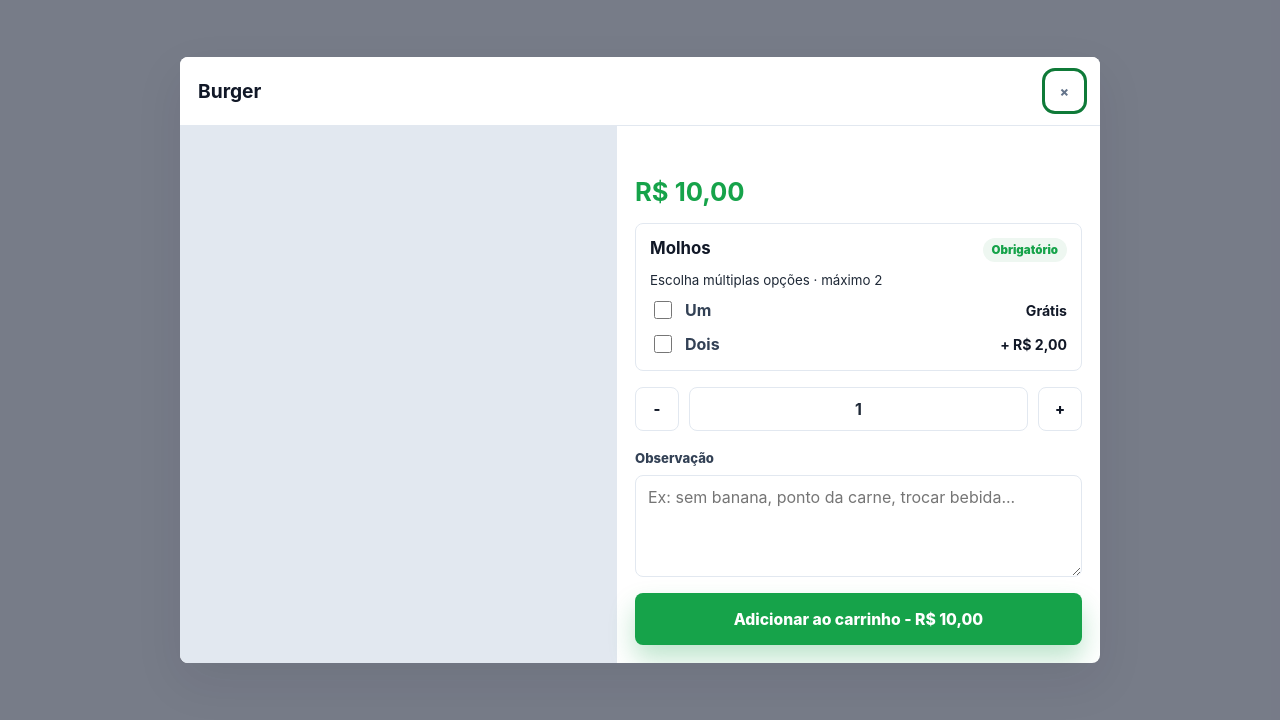
Test: componentes criticos › ProductModal valida obrigatorio e minimo antes de adicionar
The image size is (1280, 720).
Click the checkbox labelled "Um Grátis" at (663, 310), box x1=654 y1=301 x2=672 y2=319
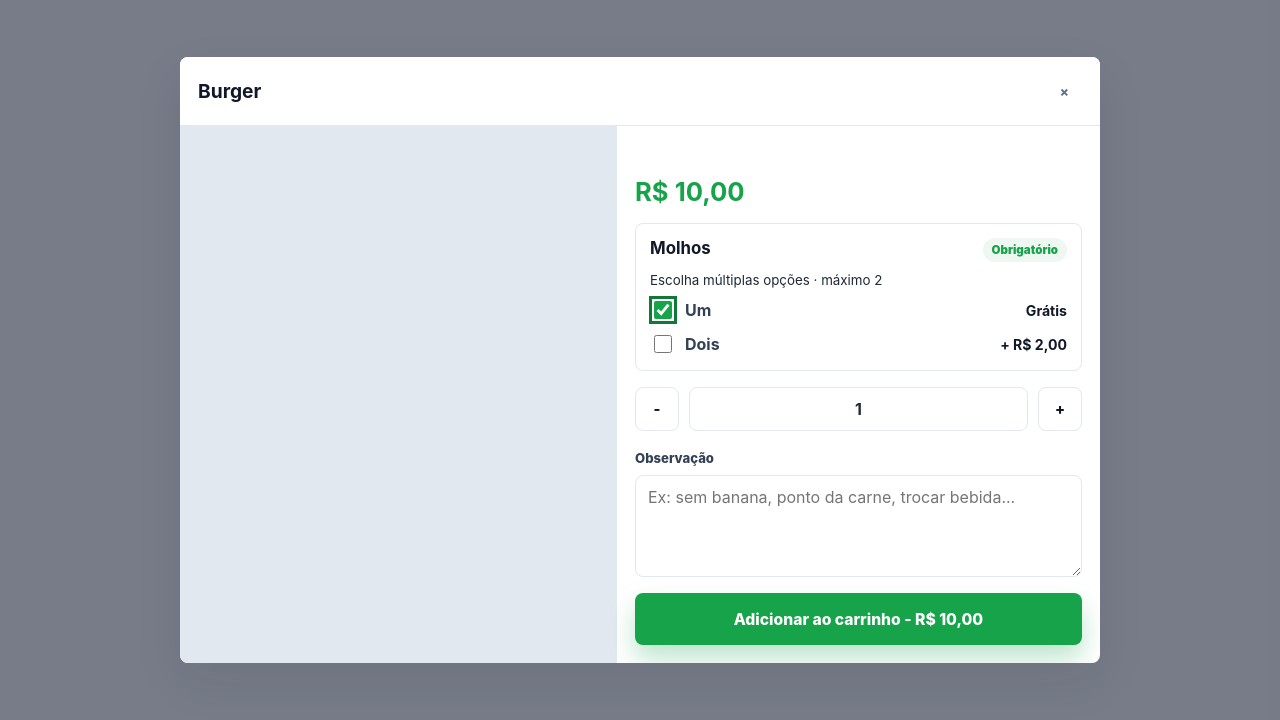
Click the button "Adicionar ao carrinho - R$ 10,00" at (858, 619), box x1=635 y1=593 x2=1082 y2=645
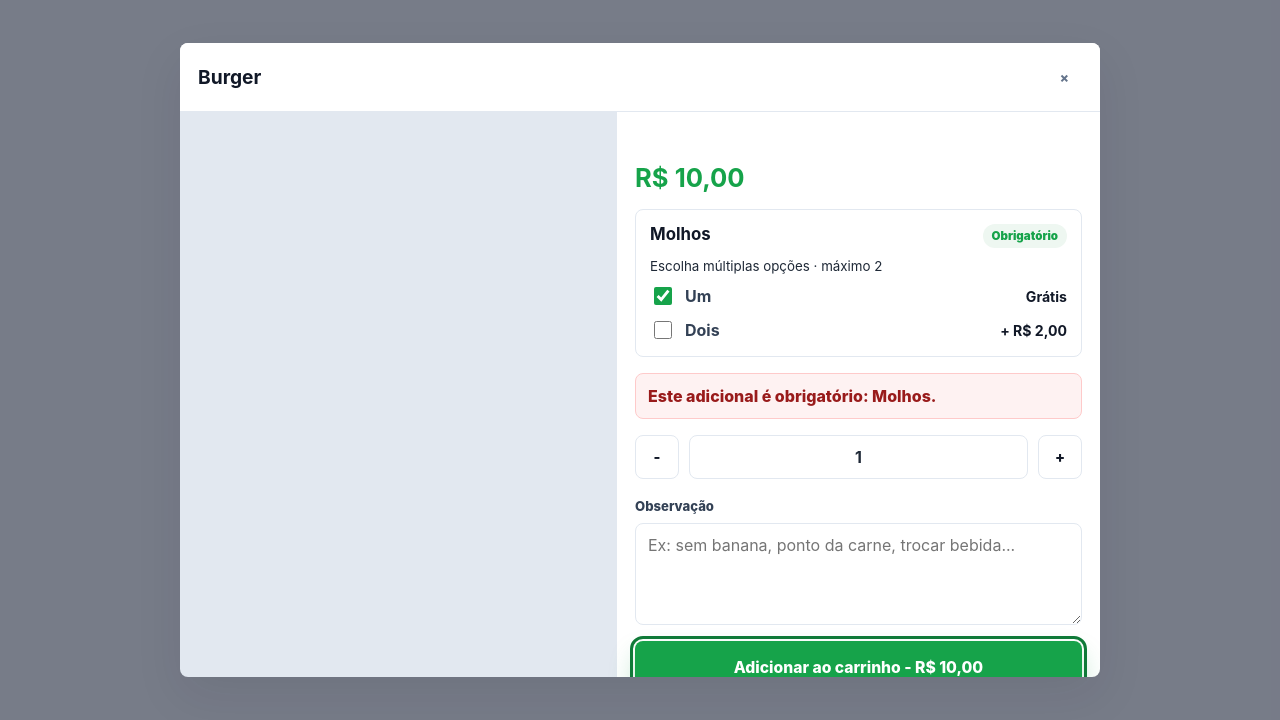
Check: the text "Este adicional é obrigatório: Molhos." is shown, box x1=635 y1=373 x2=1082 y2=419
